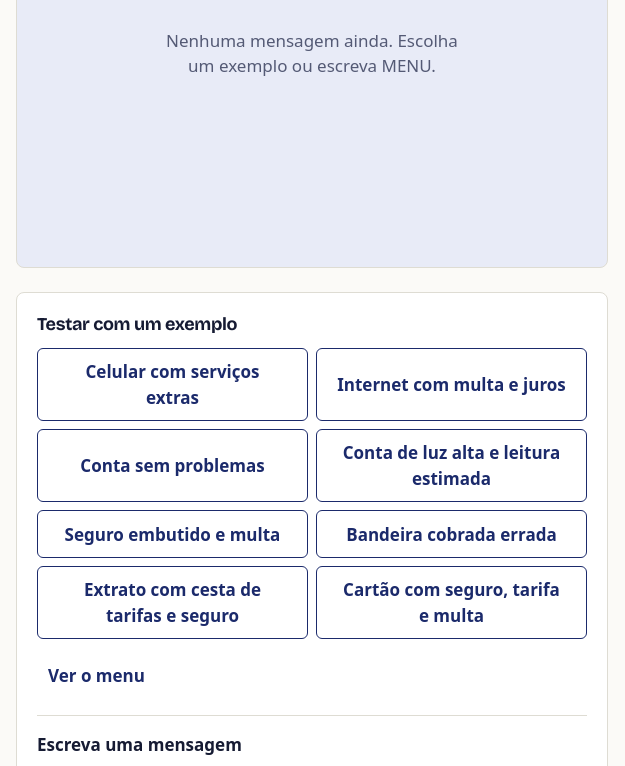
#58: simulador do bot de WhatsApp › botão de exemplo manda o id do exemplo e mostra a pergunta e a resposta no log
The width and height of the screenshot is (625, 766).
(page scrolled)
Step 1. Click the button "Celular com serviços extras" → (172, 385), box [37,348,308,422]
(page scrolled)
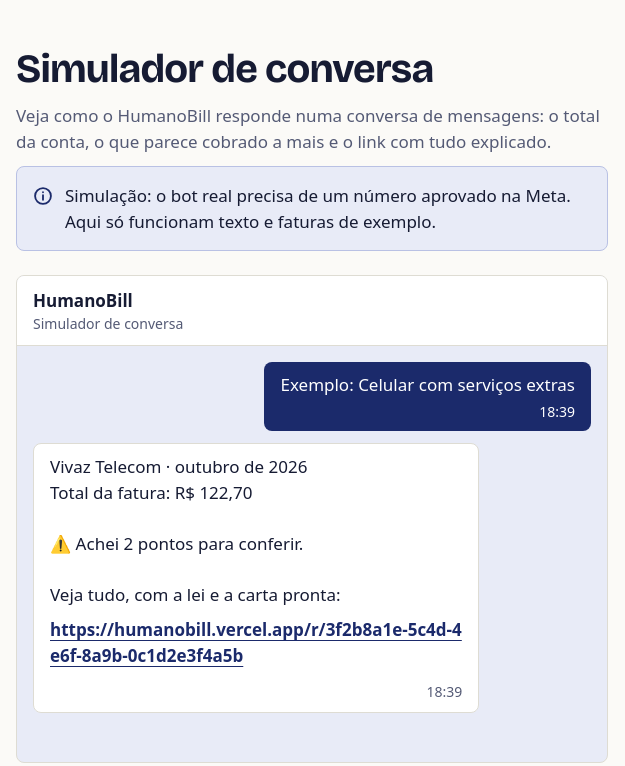
Now the text "Vivaz Telecom · outubro de 2026" is shown, box [50,455,341,606]
Now the text "Exemplo: Celular com serviços extras" is shown, box [280,372,575,398]
